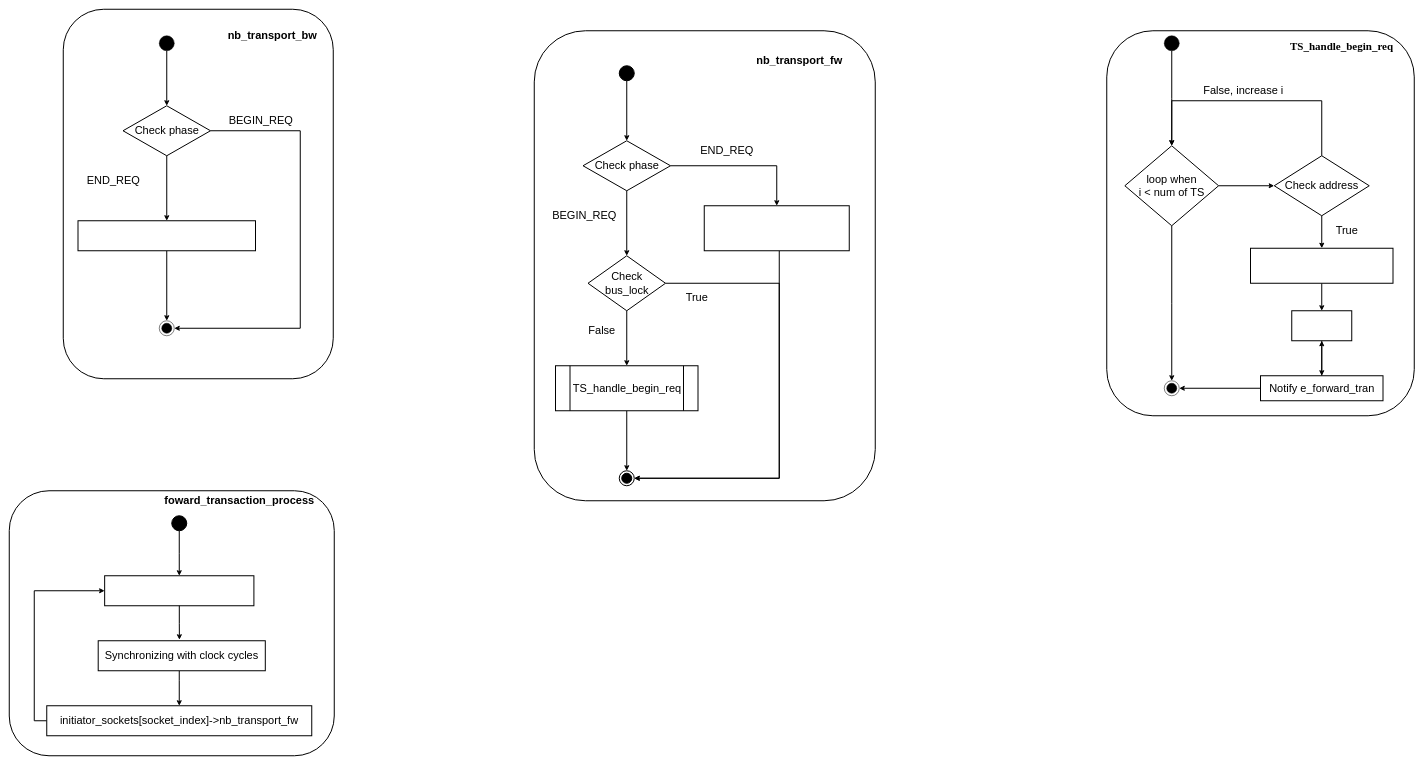
Image size: 1423x765. Some labels were removed from this diagram. Here are the shapes that lost their labels. From the top down, the centre of each, then its label:
(166,235): target_sockets->nb_transport_bw
(777,228): Send END_REQ to salve
(1321,266): reconfig trans address and status
(1321,325): Break
(179,590): Waiting e_forward_tran event
